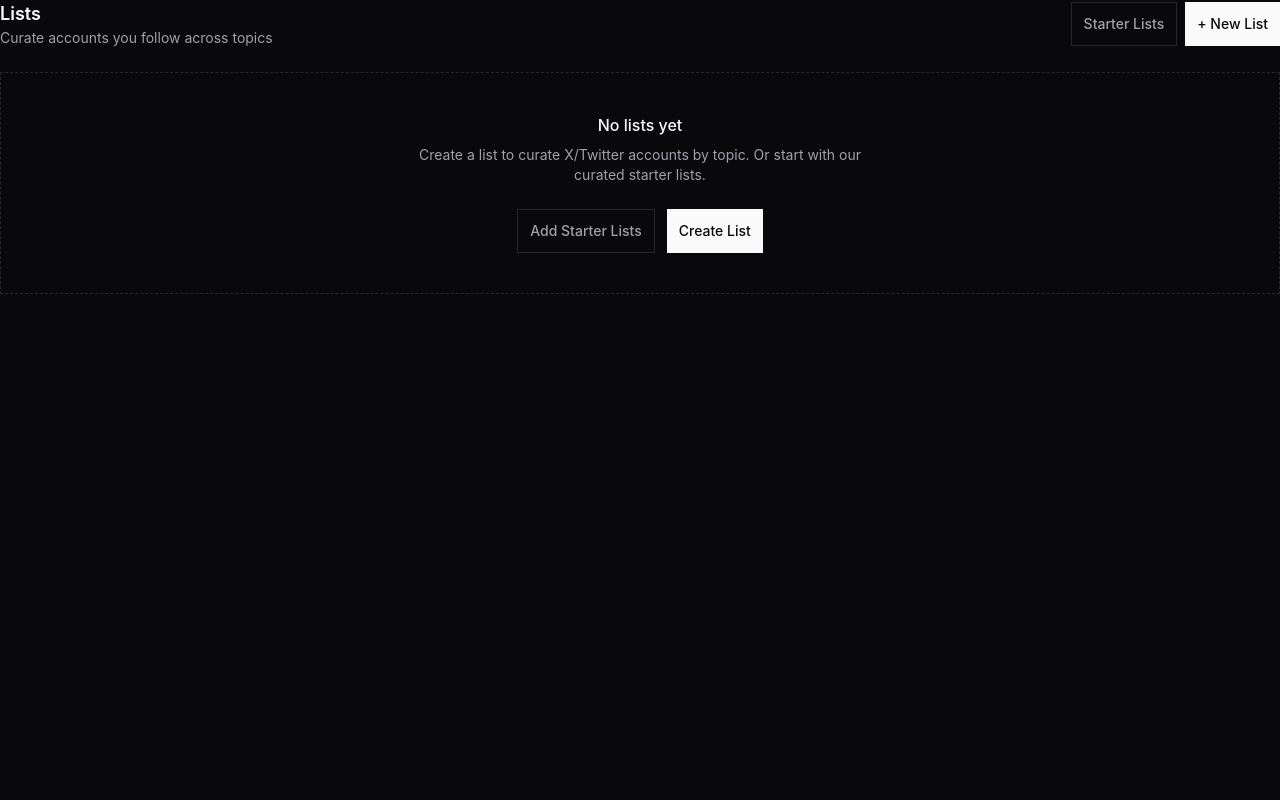
Test: ListsPage › opens and uses starter lists modal
Click the button "Starter Lists": coordinates (1124, 24) [1071,2,1177,46]
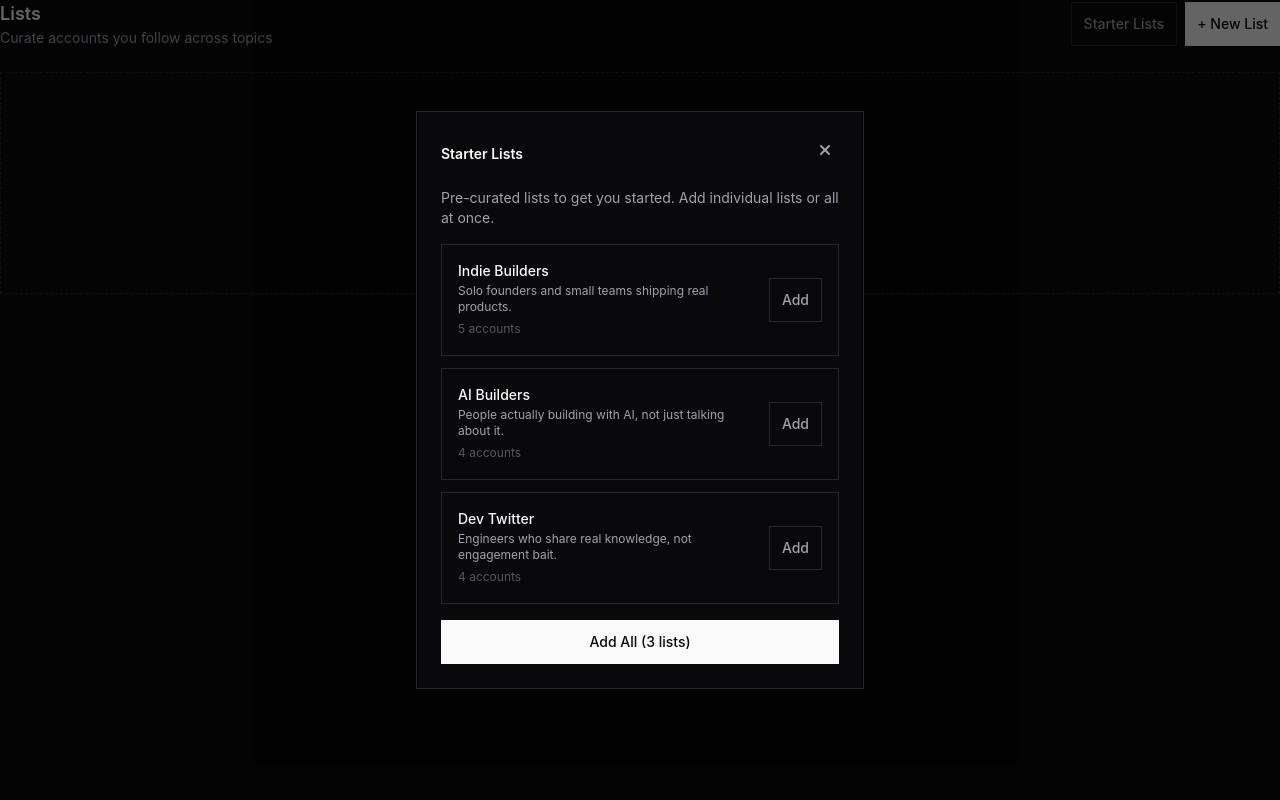
Expected: the heading "Indie Builders" is shown, [458,262,549,279]
Expected: the heading "AI Builders" is shown, [458,386,530,403]
Expected: the heading "Dev Twitter" is shown, [458,510,534,527]
